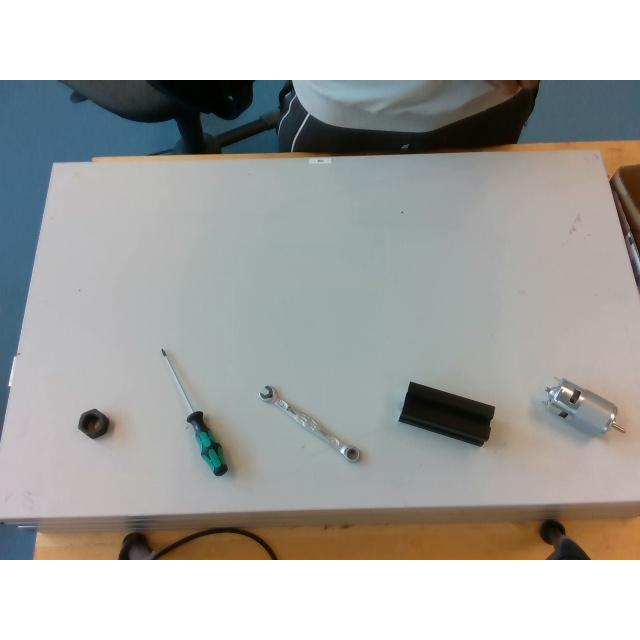M20: (77, 408, 111, 438)
Motor2: (538, 378, 624, 434)
S40_40_B: (398, 382, 494, 446)
Screwdriver: (160, 347, 228, 475)
Wrench: (258, 386, 360, 462)
